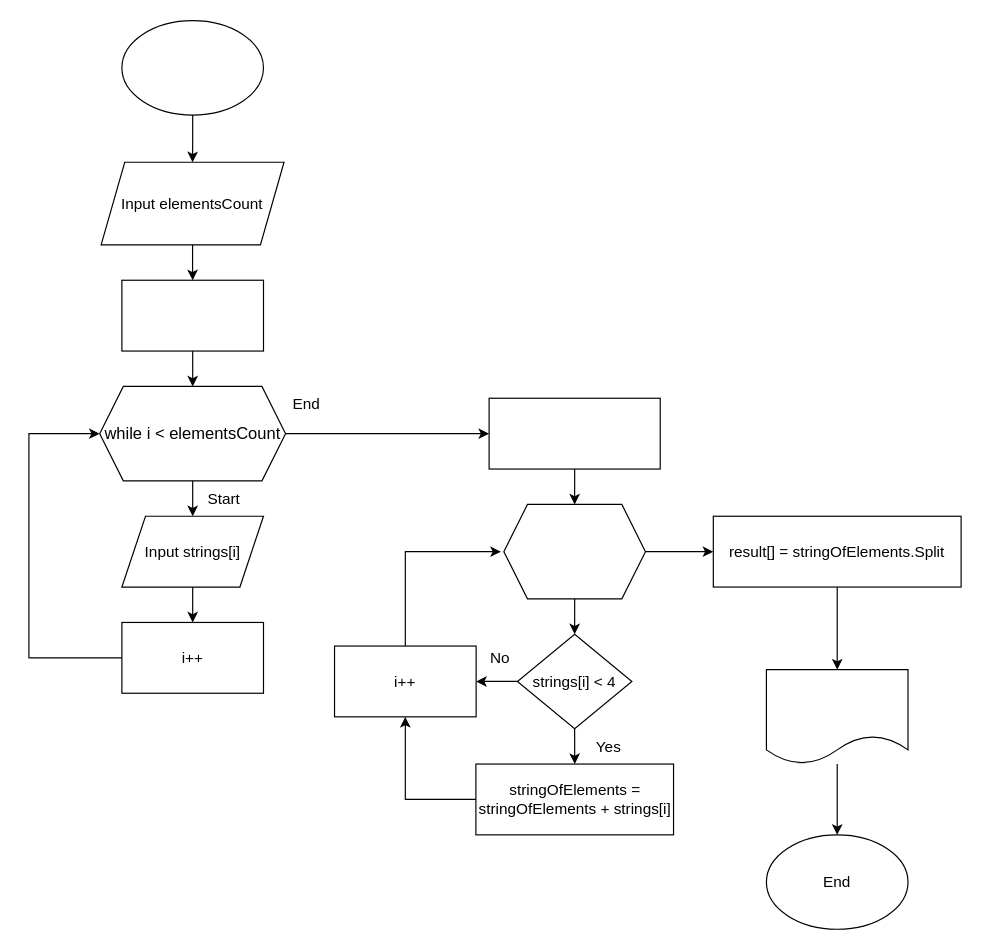
Image size: 982x950. Some labels were removed from this diagram. Each missing label, with the centre of its shape:
Begin: point (192, 67)
for i < N: point (574, 551)
i = 0 strings[] = []: point (192, 315)
result[]: point (836, 716)
stringOfElements = "": point (574, 433)
